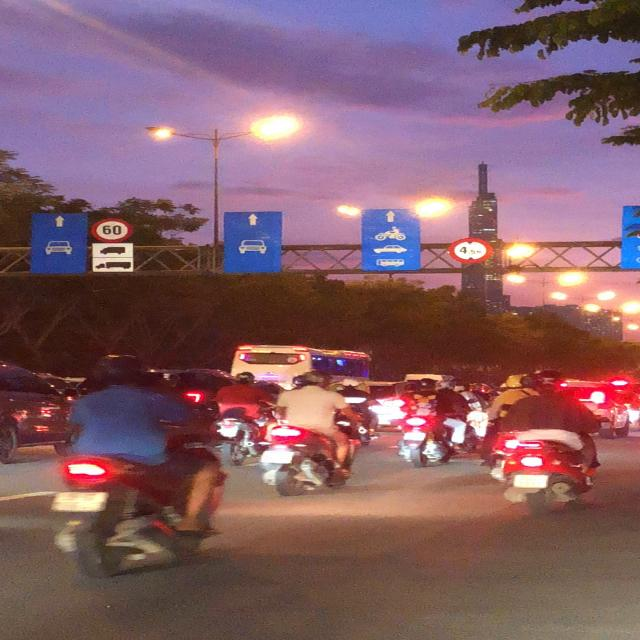Bien bao han che chieu cao: (449, 237, 496, 263)
Bien bao toc do toi da cho phep: (90, 215, 133, 243)
